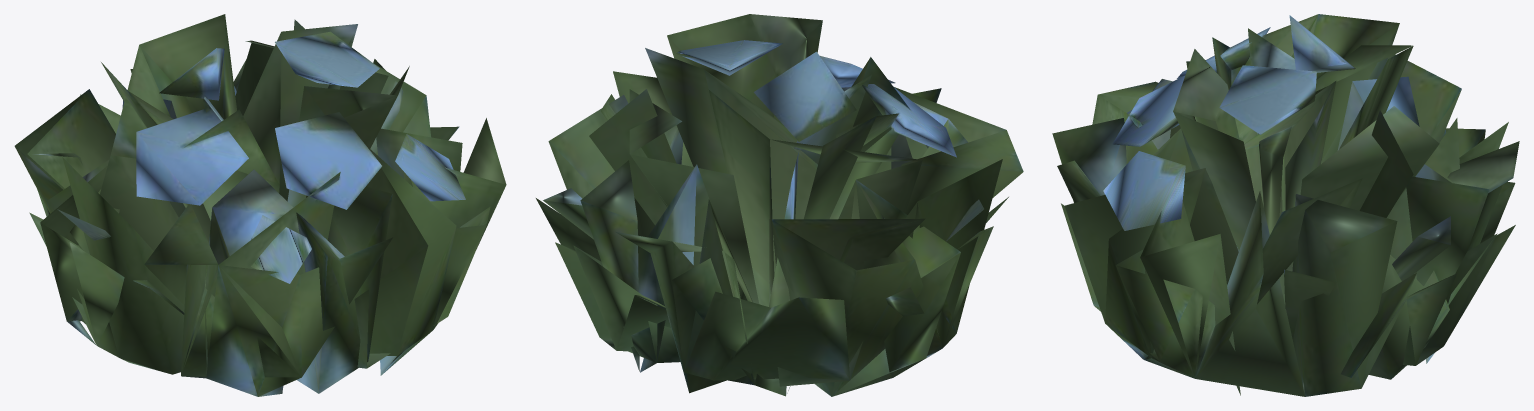
Rendered from s-fleurs-eau-semis.glb.
The picture shows the model from 3 angles, left to right: view 1: azimuth 30°, elevation 25°; view 2: azimuth 150°, elevation 25°; view 3: azimuth 270°, elevation 25°; orthographic projection.
Parts seen in each view (by area): view 1: s-fleurs-eau-semis; view 2: s-fleurs-eau-semis; view 3: s-fleurs-eau-semis.
Part boxes in pixels (x1,y1,x2,y2): s-fleurs-eau-semis: (14,14,506,396); s-fleurs-eau-semis: (536,14,1023,396); s-fleurs-eau-semis: (1052,14,1519,396).
Bounding box in the file's own units: 2 × 1.51 × 1.99.
1 material, 1 textured.
